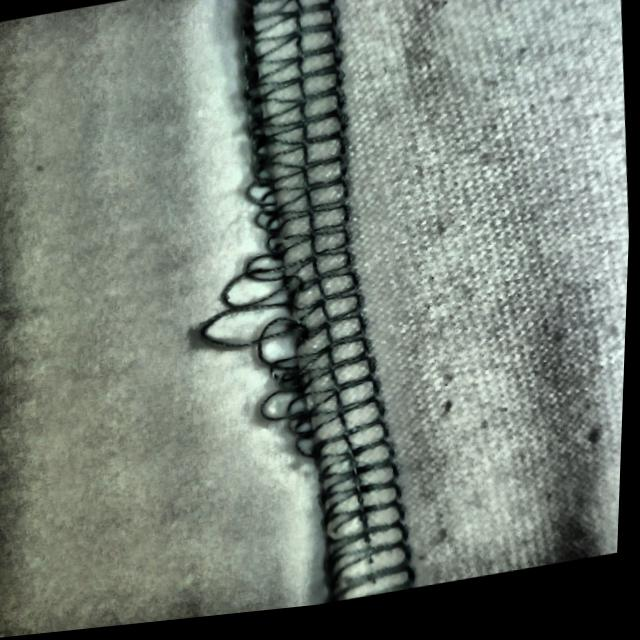Stitch: (184, 143, 392, 485)
